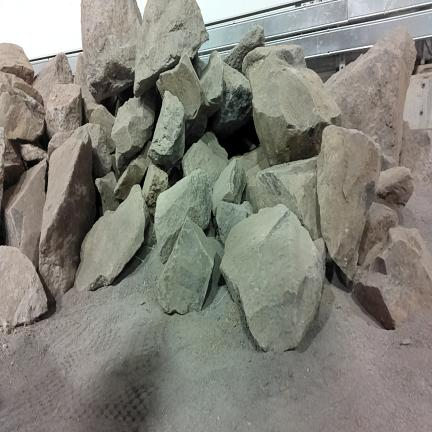Rock: (221, 204, 324, 351), (325, 28, 415, 164), (250, 57, 341, 165), (317, 126, 380, 278), (39, 136, 95, 299), (74, 185, 149, 291), (354, 227, 431, 329), (134, 0, 209, 96), (81, 0, 142, 102), (158, 217, 216, 314), (255, 157, 321, 240), (155, 169, 212, 263), (157, 51, 208, 143), (5, 160, 46, 267), (0, 246, 47, 325), (112, 91, 155, 174), (0, 72, 45, 141), (212, 62, 252, 137), (148, 91, 185, 169), (182, 132, 228, 186), (359, 203, 397, 265), (114, 141, 152, 200), (33, 53, 73, 108), (242, 44, 306, 78), (212, 158, 246, 217), (75, 124, 111, 179), (46, 84, 82, 138), (0, 127, 24, 204), (225, 25, 264, 71), (375, 167, 413, 213), (216, 201, 253, 244), (85, 99, 115, 151), (74, 53, 97, 119), (201, 51, 223, 116), (0, 43, 34, 84), (143, 163, 168, 215), (96, 172, 120, 214), (48, 131, 73, 161), (21, 144, 47, 168), (313, 238, 326, 271), (192, 54, 206, 79)
